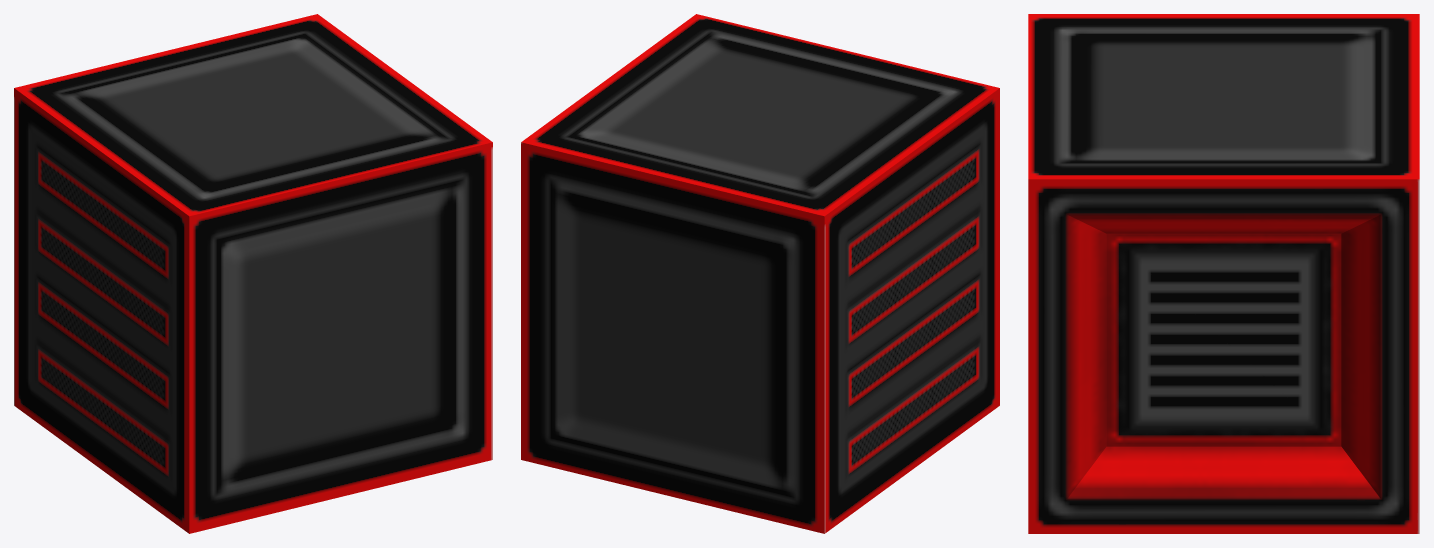
The model's file is collector.obj.
3 renders of one model, left to right at view 1: azimuth 30°, elevation 25°; view 2: azimuth 150°, elevation 25°; view 3: azimuth 270°, elevation 25°, orthographic. The views are drawn at different scales.
Parts seen in each view (by area): view 1: collector; view 2: collector; view 3: collector.
Part boxes in pixels (bbox=[...]): collector: bbox=[14, 14, 492, 533]; collector: bbox=[521, 14, 999, 533]; collector: bbox=[1028, 14, 1419, 533].
Bounding box in the file's own units: 1 × 1 × 1.
